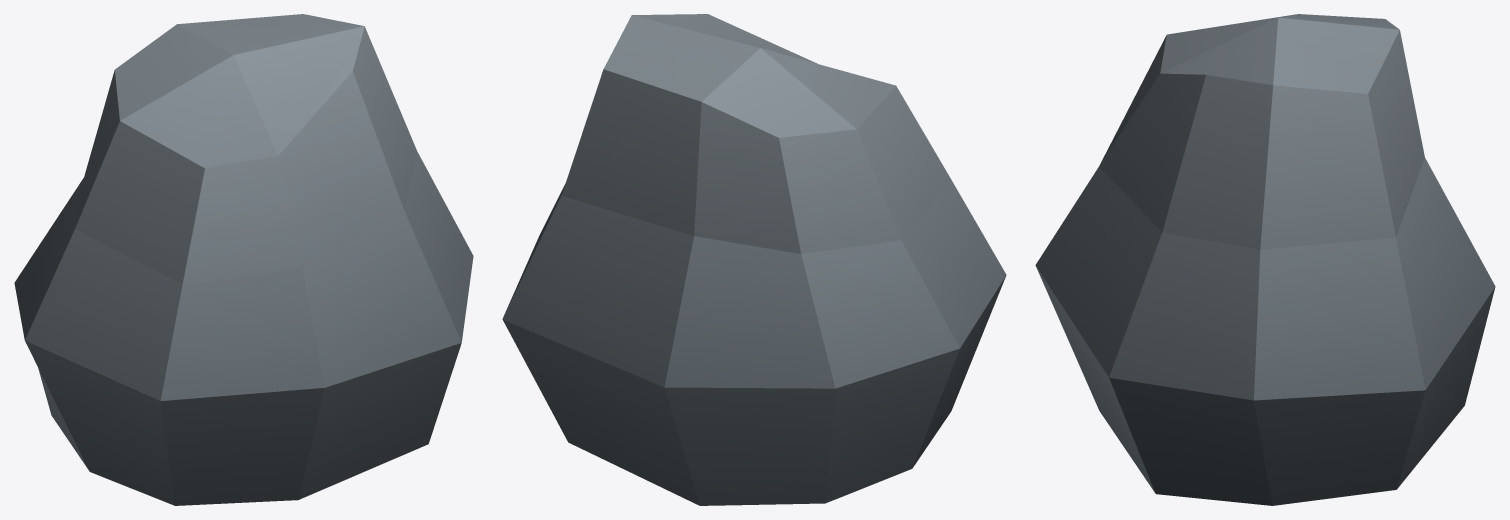
The model's file is skała6.fbx.
3 renders of one model, left to right at view 1: azimuth 30°, elevation 25°; view 2: azimuth 150°, elevation 25°; view 3: azimuth 270°, elevation 25°, orthographic. The views are drawn at different scales.
Visible parts, largest first — view 1: skała6; view 2: skała6; view 3: skała6.
Part boxes in pixels (x1,y1,x2,y2): skała6: [14, 14, 473, 505]; skała6: [502, 14, 1006, 505]; skała6: [1035, 14, 1495, 505].
Size of the model in its own units: 201 by 171 by 175.
